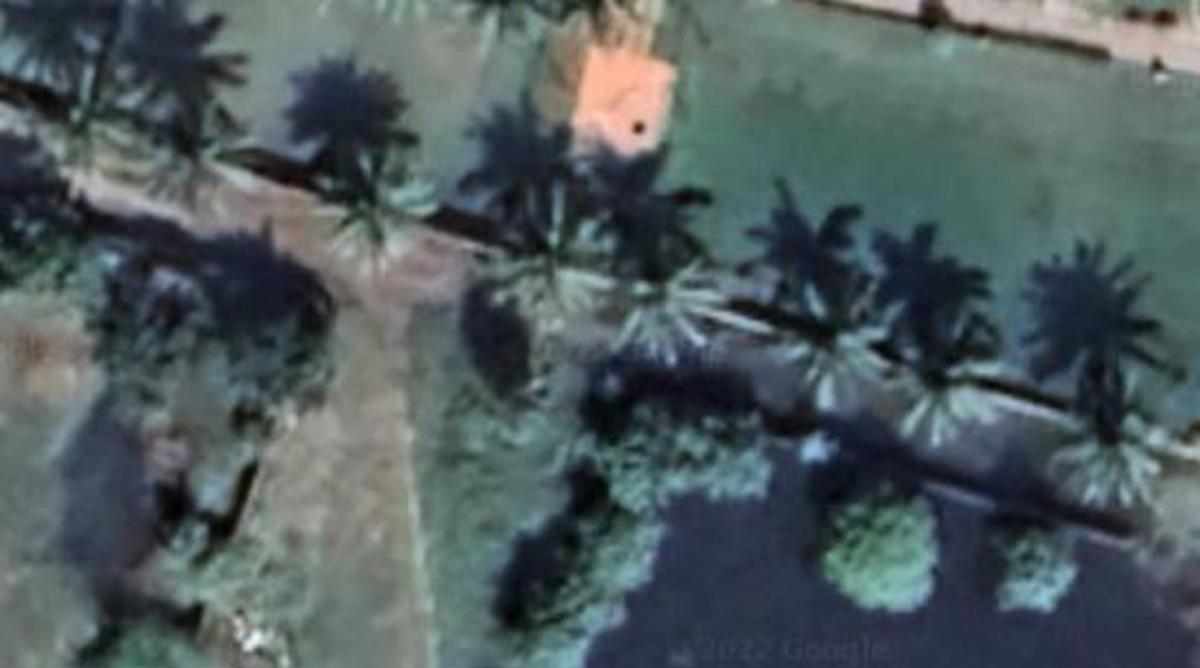coconut: (753, 271, 910, 418), (472, 188, 621, 335), (1051, 367, 1178, 516), (602, 232, 737, 367), (30, 61, 157, 192), (317, 140, 437, 271), (889, 321, 1007, 448), (120, 100, 249, 214)
